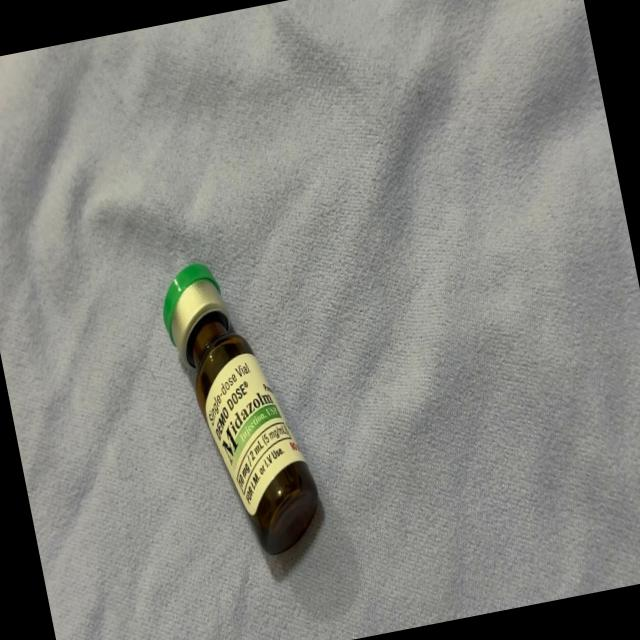midazolm: (157, 253, 327, 562)
